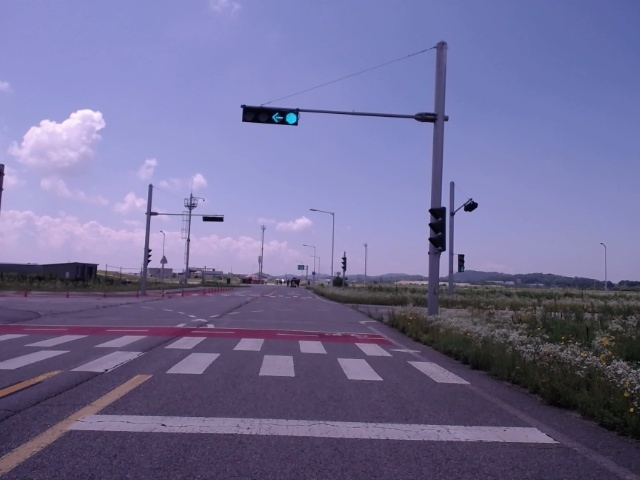all_green_4: (242, 106, 300, 125)
